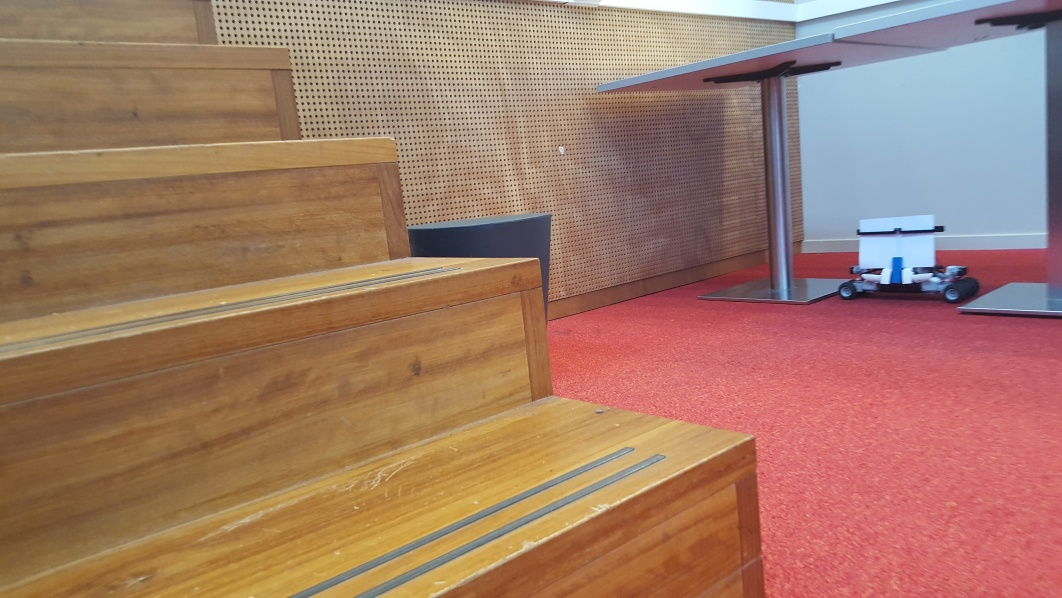car: (838, 214, 979, 310)
